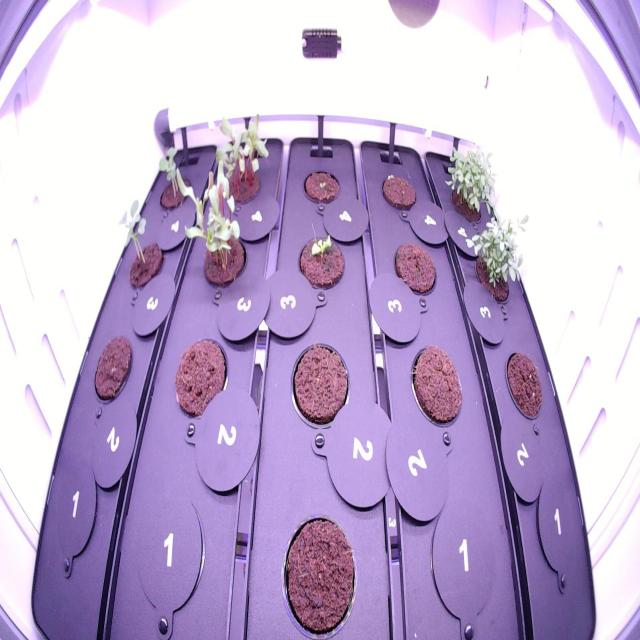empty_pod: (424, 491, 504, 623), (133, 492, 210, 612), (527, 474, 591, 588), (46, 457, 104, 562)
germination: (186, 158, 253, 294), (456, 203, 536, 311), (209, 113, 277, 214), (438, 138, 502, 226), (119, 198, 167, 304), (154, 141, 194, 212), (378, 165, 420, 218), (300, 160, 344, 210)
pod: (276, 503, 366, 638), (283, 334, 358, 442), (406, 336, 466, 442), (169, 330, 232, 427), (89, 326, 138, 409), (501, 342, 548, 425), (388, 235, 442, 302)
young: (290, 222, 350, 302)
